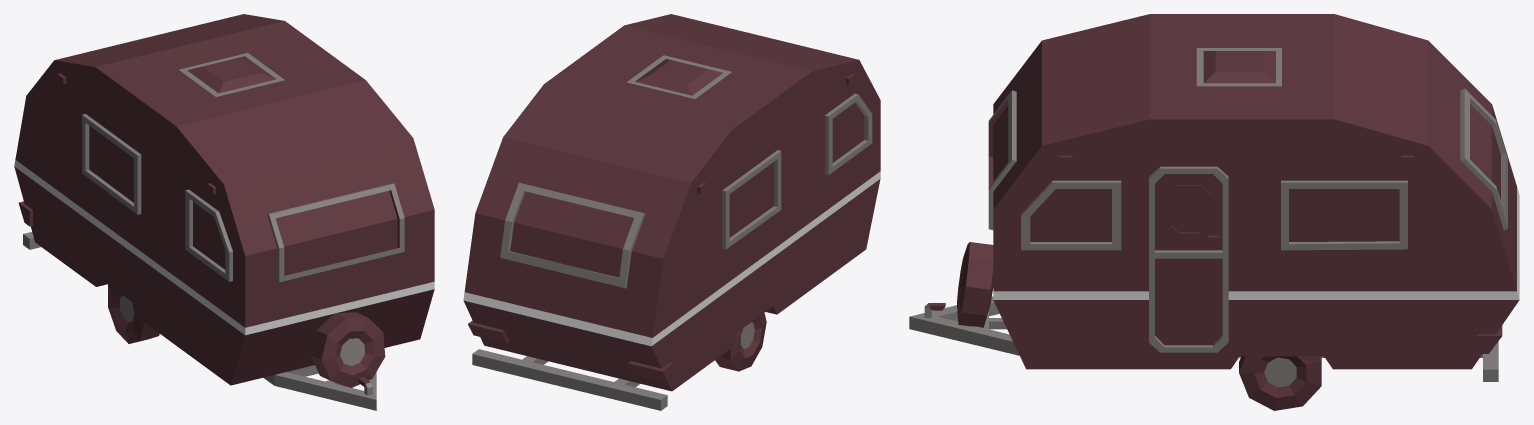
Rendered from vehicles-car-caravan-small.glb.
3 views of the same model, side by side, from view 1: azimuth 30°, elevation 25°; view 2: azimuth 150°, elevation 25°; view 3: azimuth 270°, elevation 25° (orthographic). The views are drawn at different scales.
Visible parts, largest first — view 1: car-caravan-small-base, car-caravan-small-wheel_R; view 2: car-caravan-small-base, car-caravan-small-wheel_R; view 3: car-caravan-small-base, car-caravan-small-wheel_L.
Boxes of the visible parts, x1=… form: car-caravan-small-base: x1=14, y1=14, x2=434, y2=410; car-caravan-small-wheel_R: x1=108, y1=284, x2=159, y2=343; car-caravan-small-base: x1=463, y1=14, x2=880, y2=410; car-caravan-small-wheel_R: x1=715, y1=313, x2=766, y2=371; car-caravan-small-base: x1=909, y1=14, x2=1519, y2=381; car-caravan-small-wheel_L: x1=1239, y1=356, x2=1321, y2=410.
Bounding box in the file's own units: 2.18 × 2.8 × 5.14.
